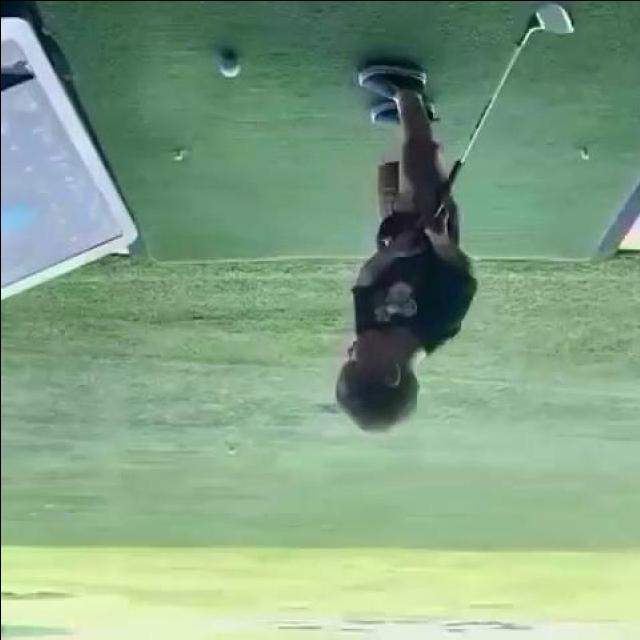golf ball: (219, 58, 238, 75)
golf club-handle: (421, 3, 573, 225)
golf club-head: (530, 3, 573, 33)
